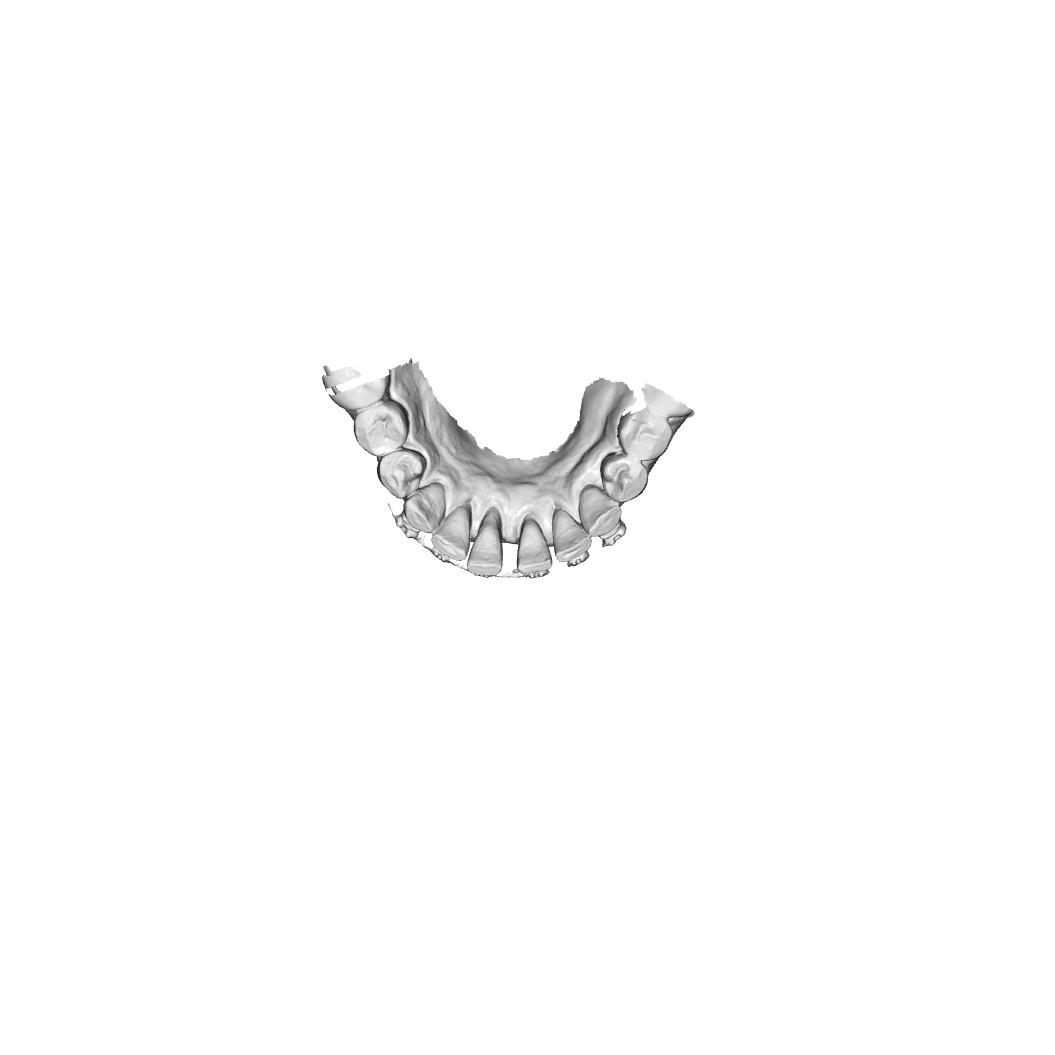canine: (583, 485, 622, 540), (402, 490, 448, 534)
incisor: (513, 519, 553, 579), (552, 510, 593, 565), (431, 509, 472, 563), (467, 518, 502, 579)
premolar: (354, 400, 410, 455), (620, 412, 672, 464), (602, 449, 648, 505), (378, 450, 429, 500)
